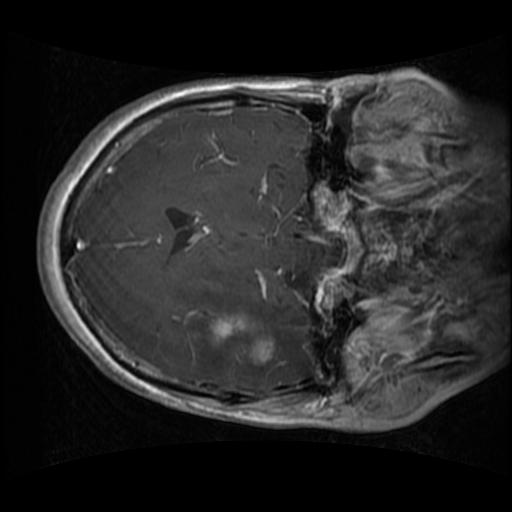glioma: (184, 300, 281, 385)
